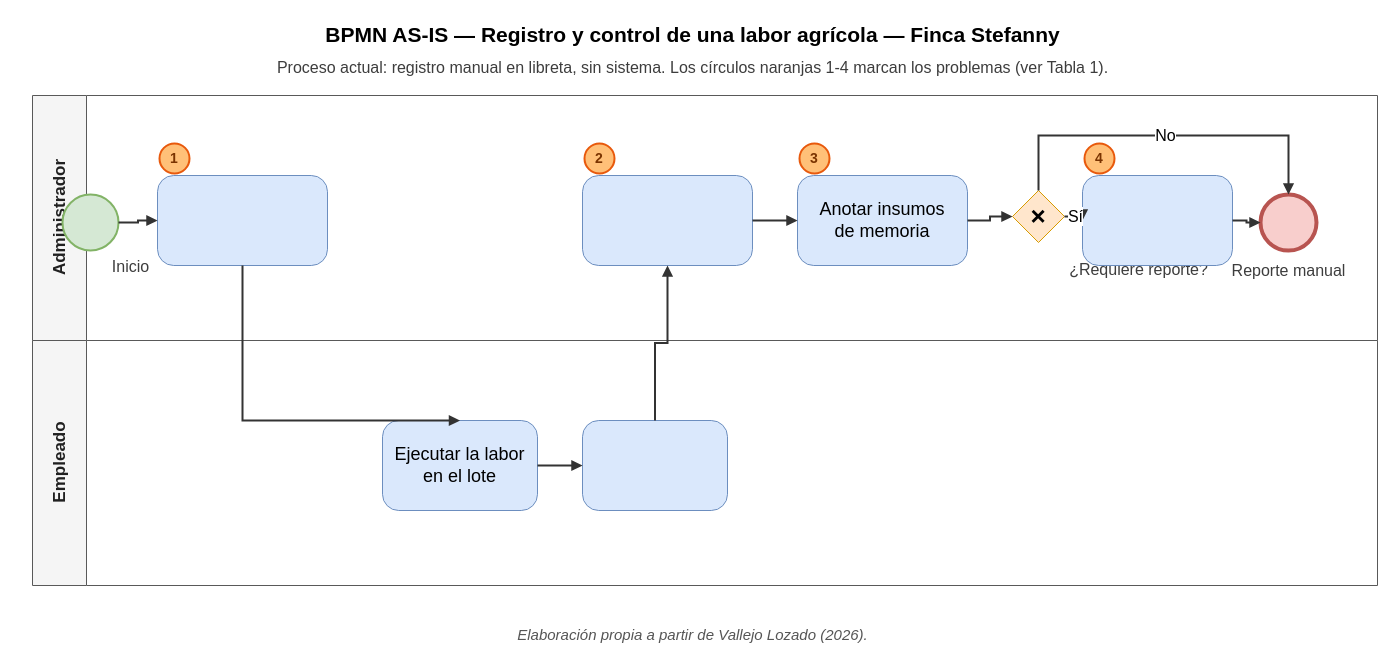
This 1395x662 diagram has some shape labels left out. The box of each missing label's shape, as (x1, y1, x2, y2) in pixels:
Anotar la labor en la libreta: (582, 174, 752, 266)
Calcular reporte a mano: (1082, 174, 1232, 266)
Informar lo realizado: (582, 420, 728, 510)
Planificar y asignar la labor (verbal): (156, 174, 328, 266)
